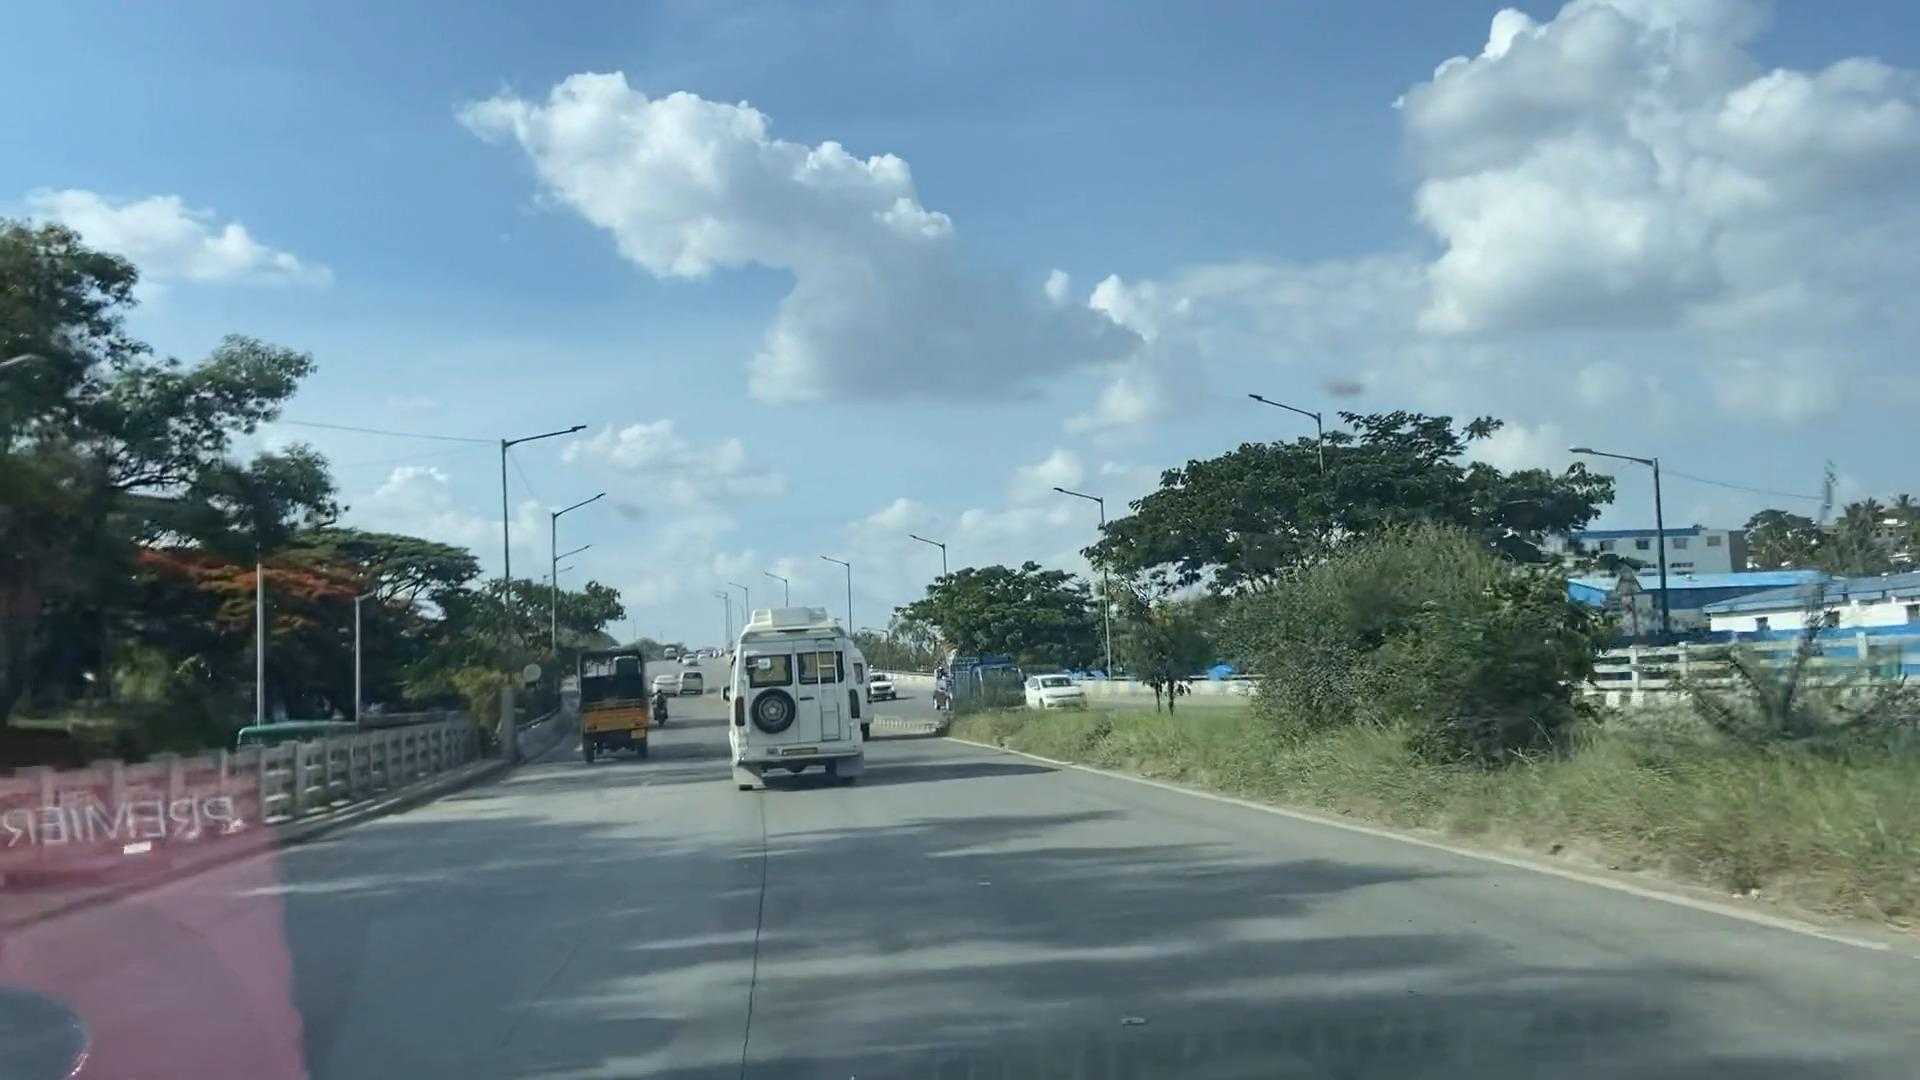HMV: (731, 612, 870, 791), (584, 641, 649, 754)
